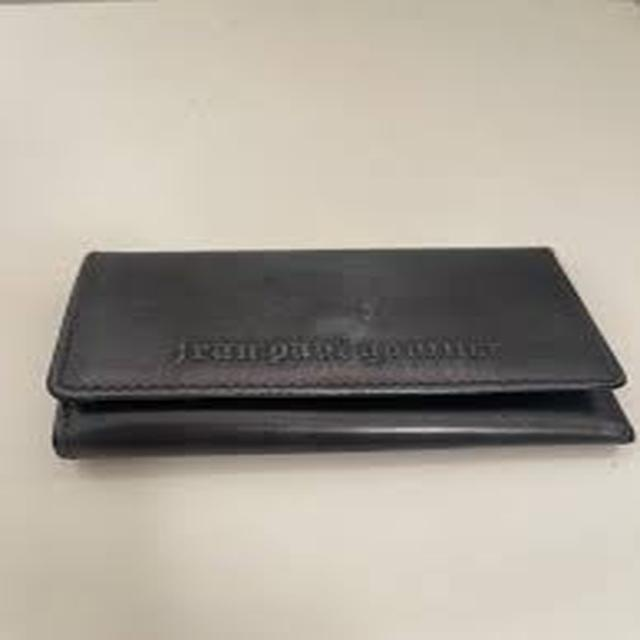wallet: (40, 216, 632, 474)
